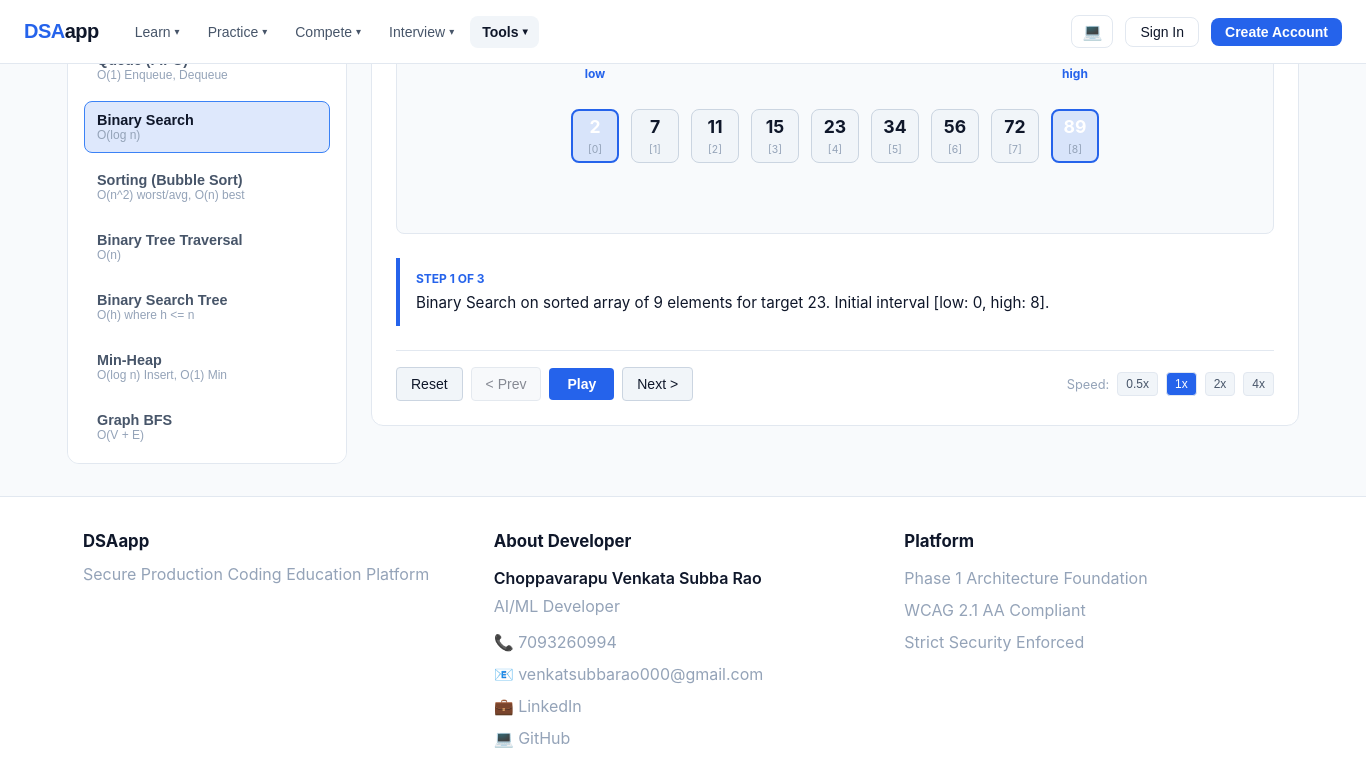
it: DSAapp Phase 6 DSA Visualizers Engine & UI › steps forward and backward through algorithm animation frames deterministically
This screenshot has width=1366, height=768.
(page scrolled)
Check: the text "Step 1 of 3" is shown, box [416,271,485,286]
// Click Next
Click the button "Next >": (658, 384) [622,367,693,401]
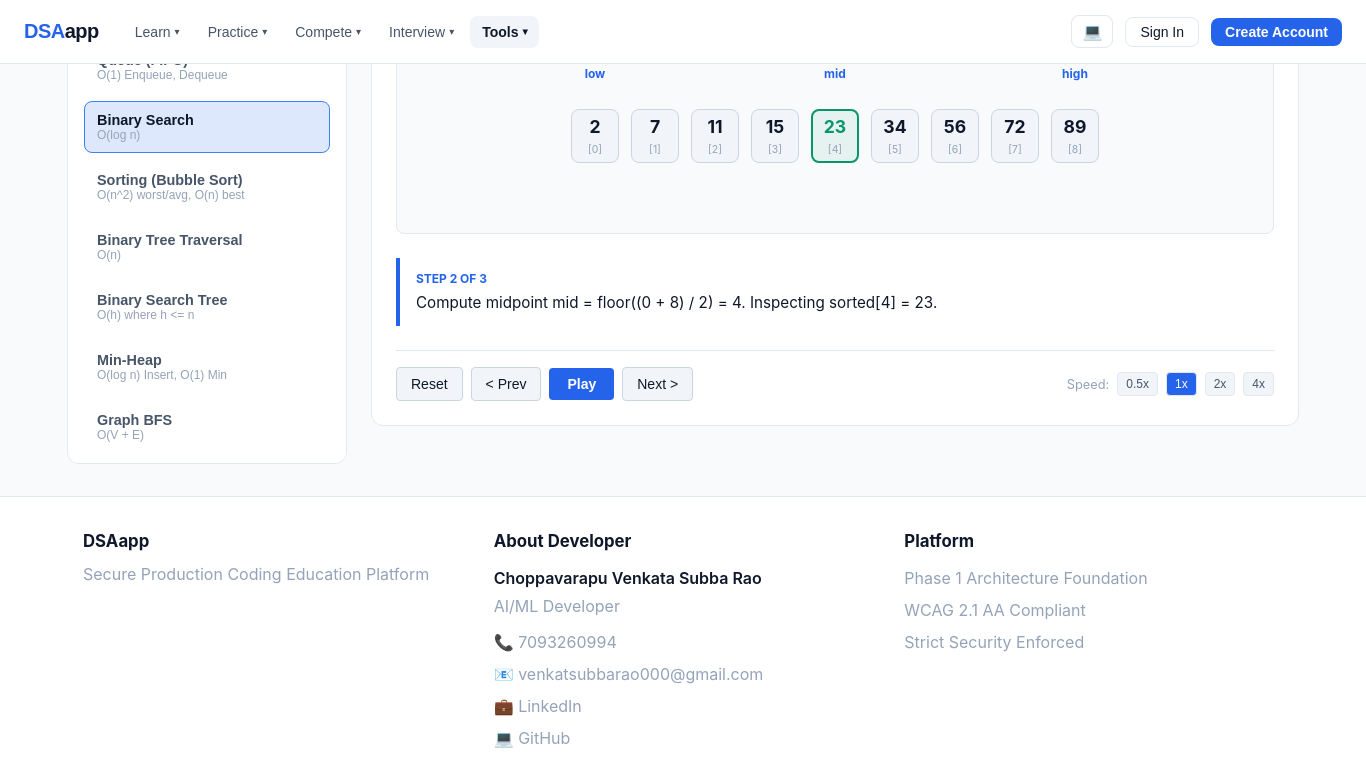
Check: the text "Step 2 of 3" is shown, box [416,271,487,286]
// Click Prev
Click the button "< Prev": (506, 384) [471,367,542,401]
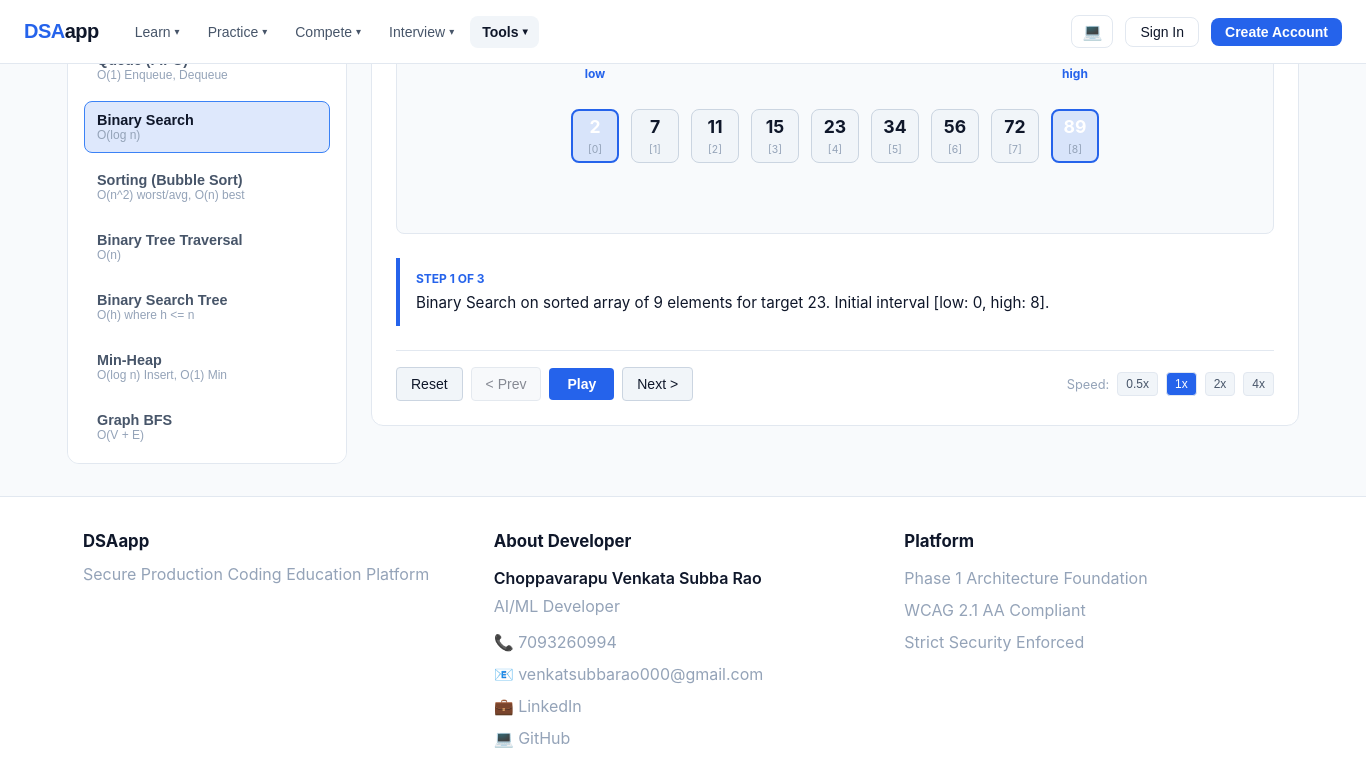
Check: the text "Step 1 of 3" is shown, box [416,271,485,286]
